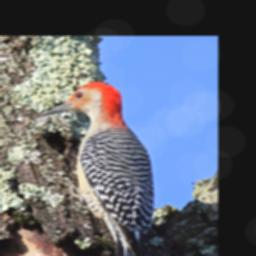Woodpecker: (41, 79, 156, 256)
